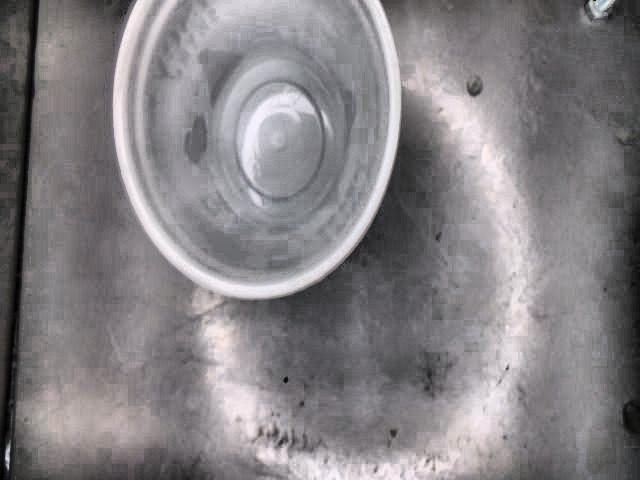Plastic: (108, 0, 401, 296)
